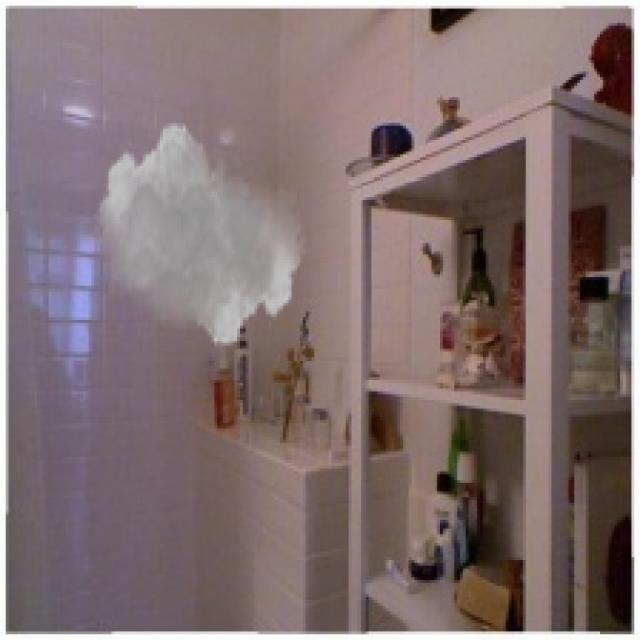smoke: (94, 120, 306, 349)
